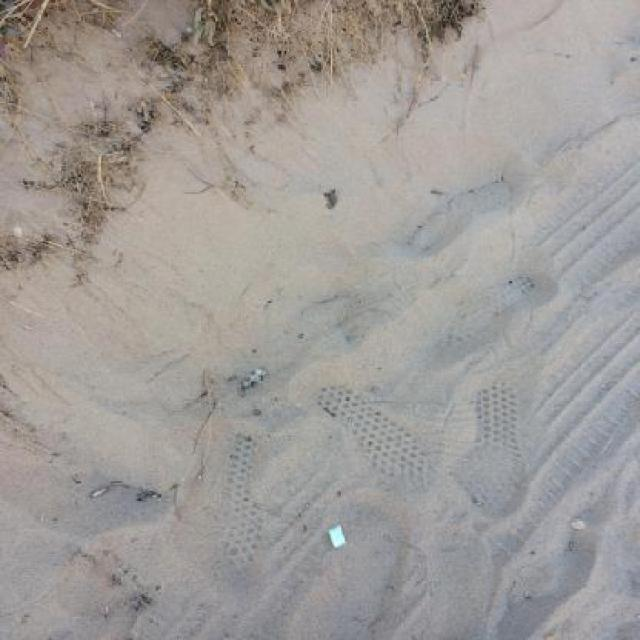plastic: (328, 524, 347, 548)
